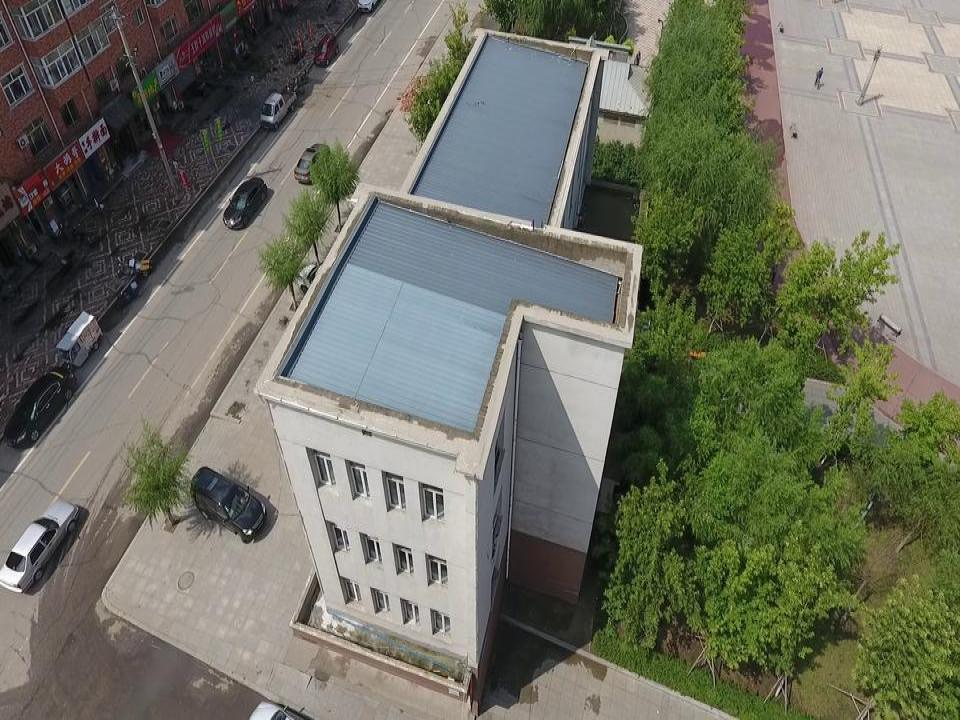car: (1, 500, 82, 593), (188, 464, 267, 543), (4, 367, 76, 449), (222, 176, 268, 231), (293, 142, 330, 185), (314, 31, 339, 68), (357, 0, 379, 12)
truck: (260, 88, 296, 131)
